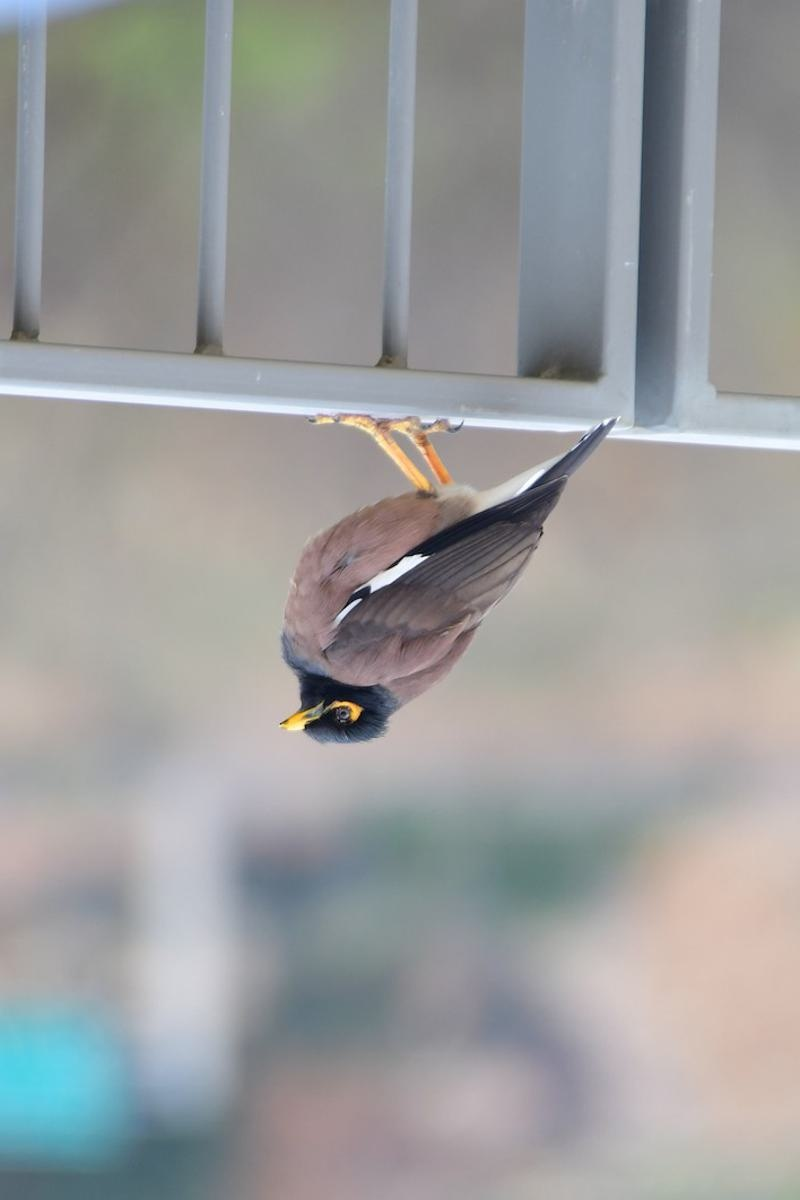myna: (223, 357, 636, 862)
